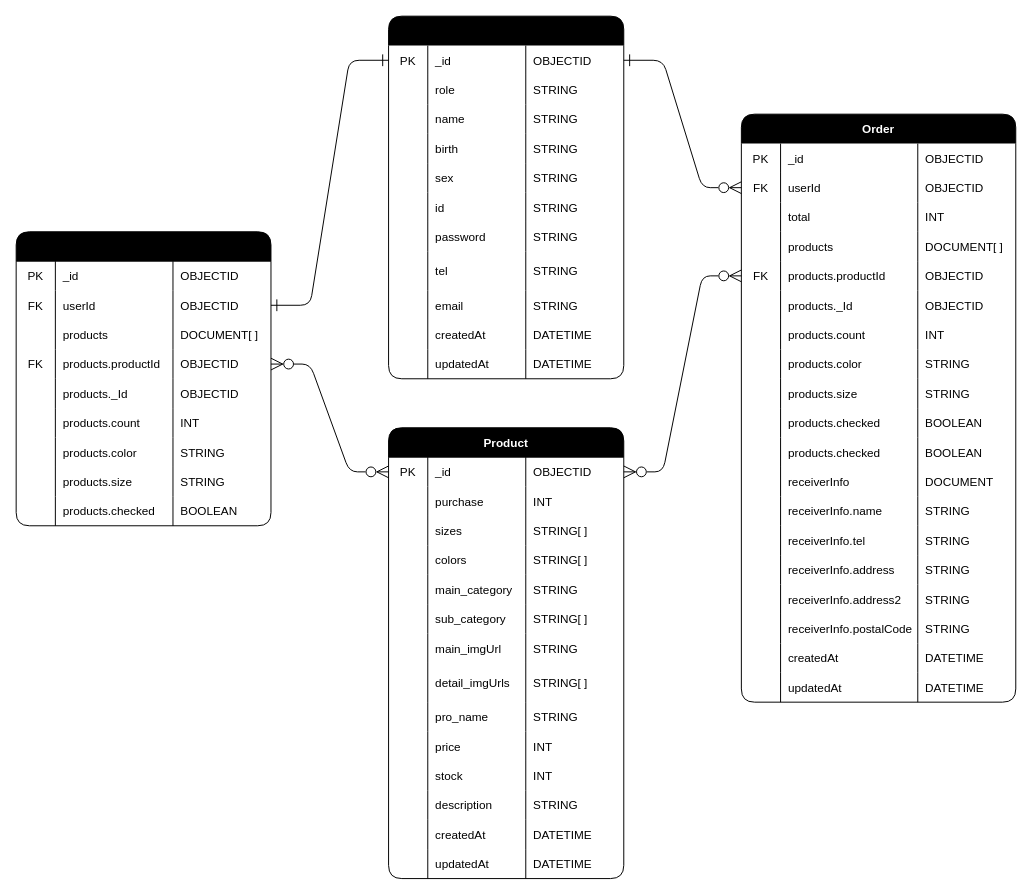
Image size: 1032x895. Some labels were removed from this diagram. The box of each missing label's shape, as (x1, y1, x2, y2) in pixels:
Cart: (15, 231, 271, 526)
User: (388, 15, 624, 379)
